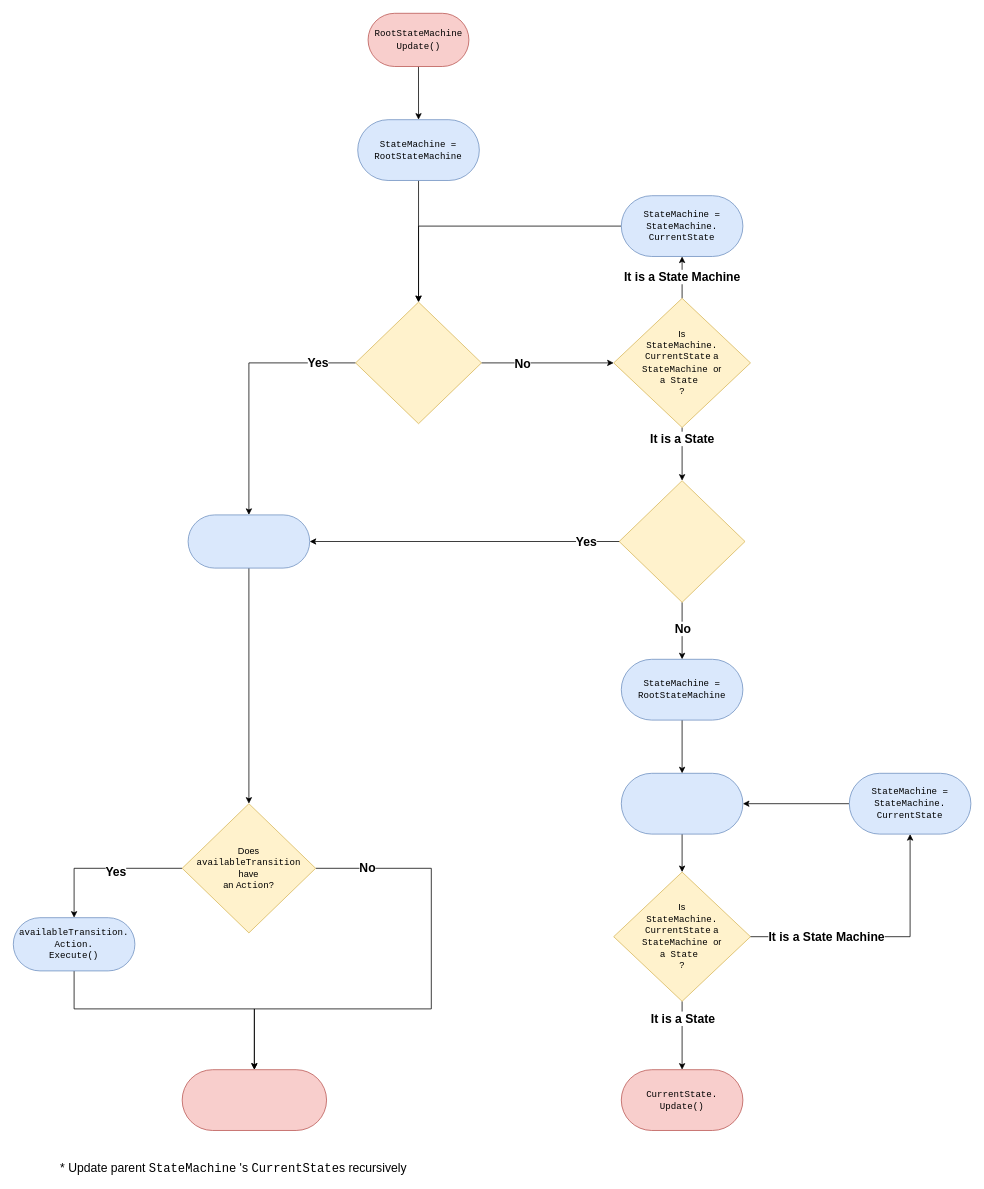
This 984x1189 diagram has some shape labels left out. Here are the shapes that lost their labels. From the top down, the centre of each, then its label:
At pixel 418 362: "Does StateMachine have an available transition ?".
At pixel 248 541: "StateMachine. CurrentState.Exit()".
At pixel 681 541: "Does CurrentState have an available transition ?".
At pixel 682 803: "StateMachine. Update()".
At pixel 254 1099: "StateMachine. CurrentState = Transition.TargetState *".
